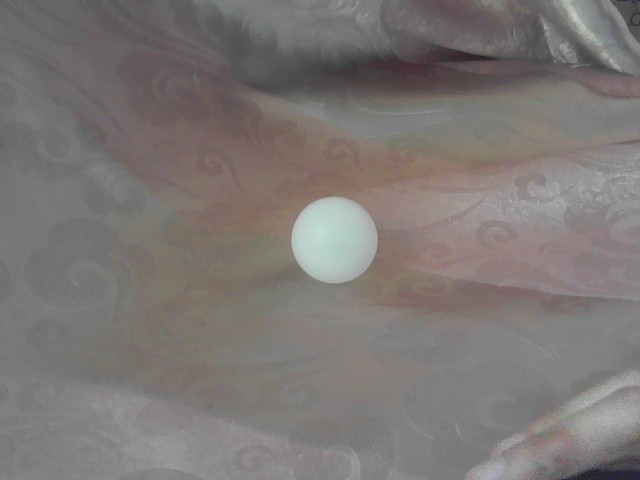ball: (290, 195, 380, 283)
